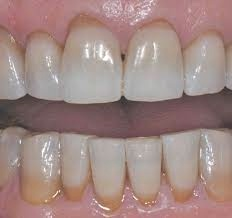Tooth Discoloration: (23, 156, 232, 215), (0, 15, 116, 73)
